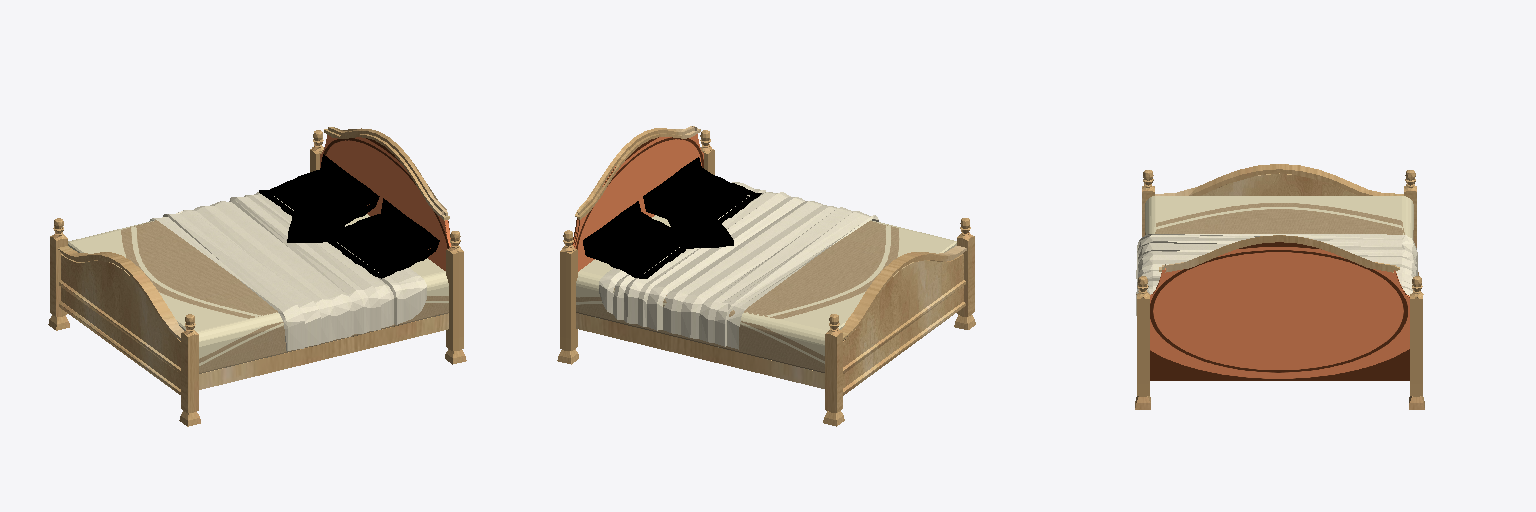
3 renders of one model, left to right at view 1: azimuth 30°, elevation 25°; view 2: azimuth 150°, elevation 25°; view 3: azimuth 270°, elevation 25°, orthographic.
Parts seen in each view (by area): view 1: Model__1_:Model__1_:Rectangle62; view 2: Model__1_:Model__1_:Rectangle62; view 3: Model__1_:Model__1_:Rectangle62.
Boxes of the visible parts, <box> form: Model__1_:Model__1_:Rectangle62: <box>48,127,466,426</box>; Model__1_:Model__1_:Rectangle62: <box>557,126,975,426</box>; Model__1_:Model__1_:Rectangle62: <box>1135,164,1424,409</box>.
Bounding box in the file's own units: 2 × 1.19 × 1.81.
8 materials, 4 textured.